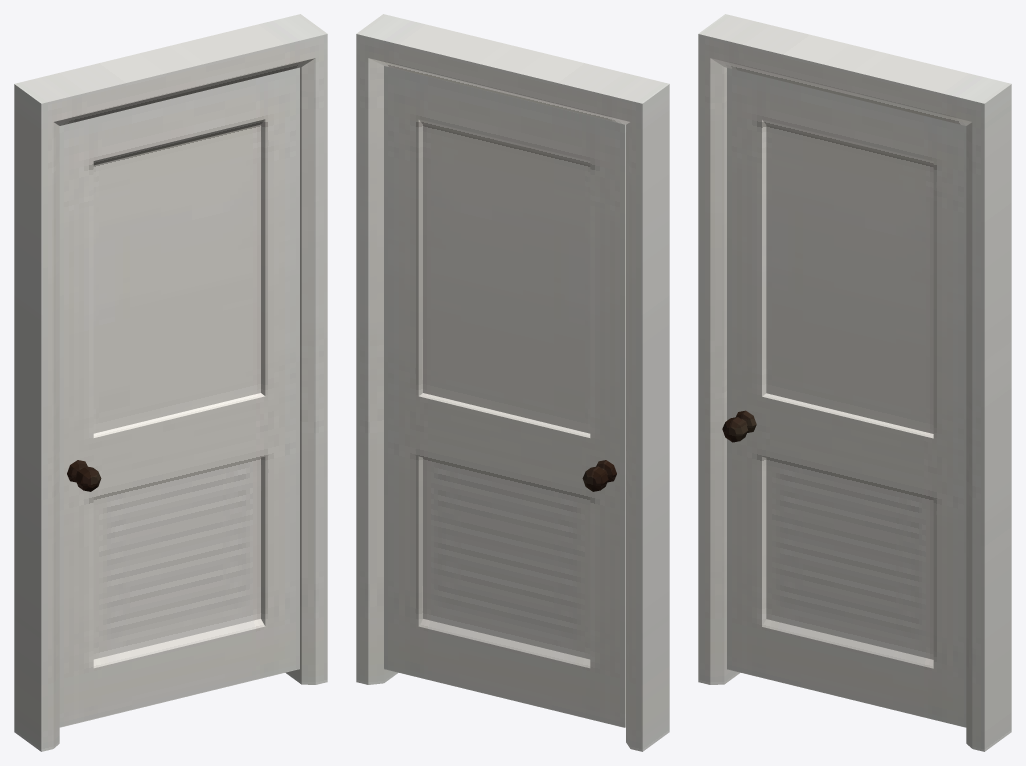
File: door_bathroom.glb
3 renders of one model, left to right at view 1: azimuth 30°, elevation 25°; view 2: azimuth 150°, elevation 25°; view 3: azimuth 330°, elevation 25°, orthographic.
Parts seen in each view (by area): view 1: door_bathroom; view 2: door_bathroom; view 3: door_bathroom.
Boxes of the visible parts, box(x1,y1,x2,y2) form: door_bathroom: box(14, 14, 327, 751); door_bathroom: box(356, 14, 669, 751); door_bathroom: box(698, 14, 1011, 751).
Size of the model in its own units: 0.897 by 1.94 by 0.2489.
1 material, 1 textured.
